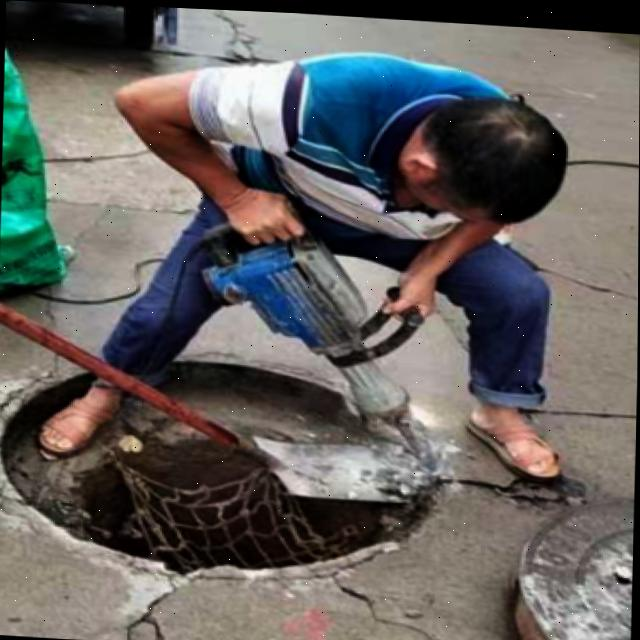manhole: (0, 344, 434, 580)
